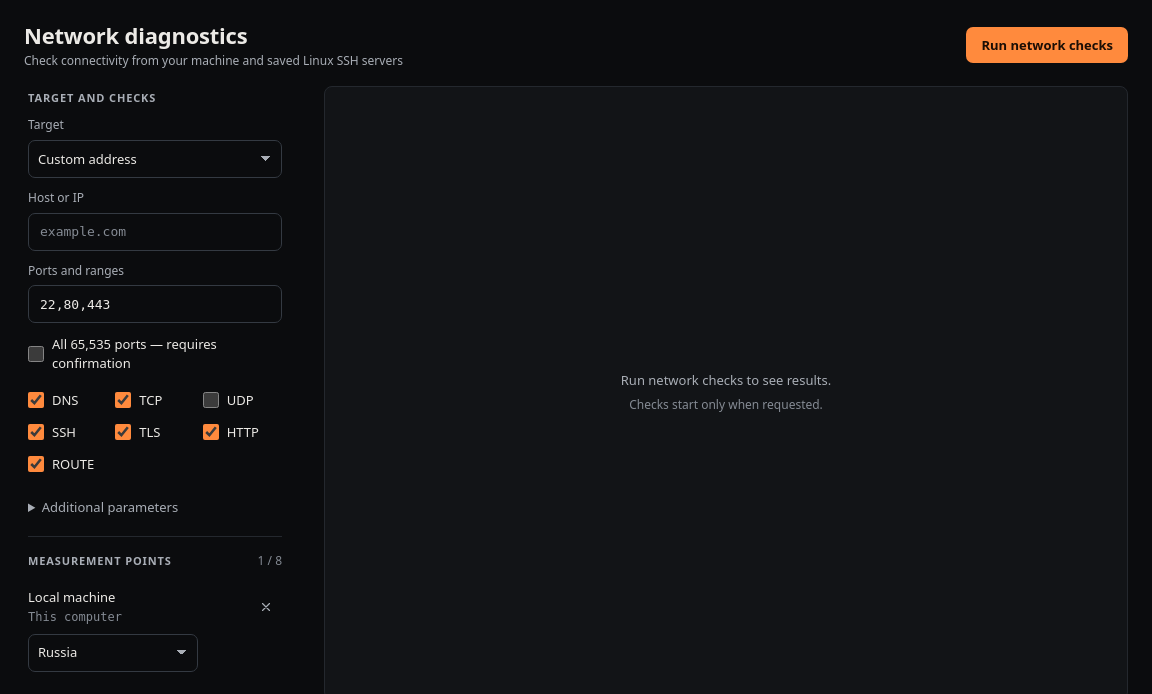
Test case: network diagnostics › shows distinct outcomes even when a point or tool is unavailable
Click the button "Run network checks" at (1047, 45), box [966,27,1128,63]
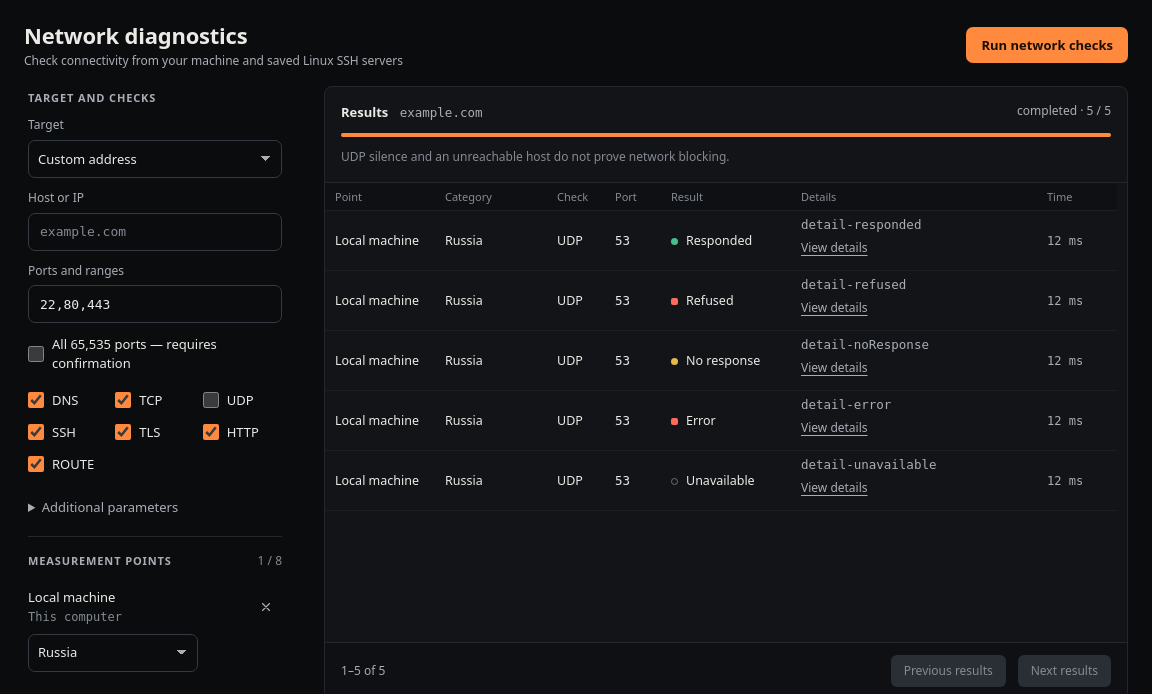
Check: the text "Responded" is shown, box [671,232,752,250]
Check: the text "Refused" is shown, box [671,292,734,310]
Check: the text "No response" is shown, box [671,352,760,370]
